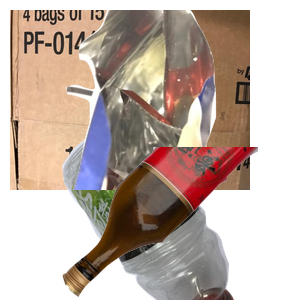cardboard: (10, 10, 250, 190)
glass: (60, 147, 300, 300)
plastic: (25, 120, 252, 300)
trash: (63, 10, 300, 190)
